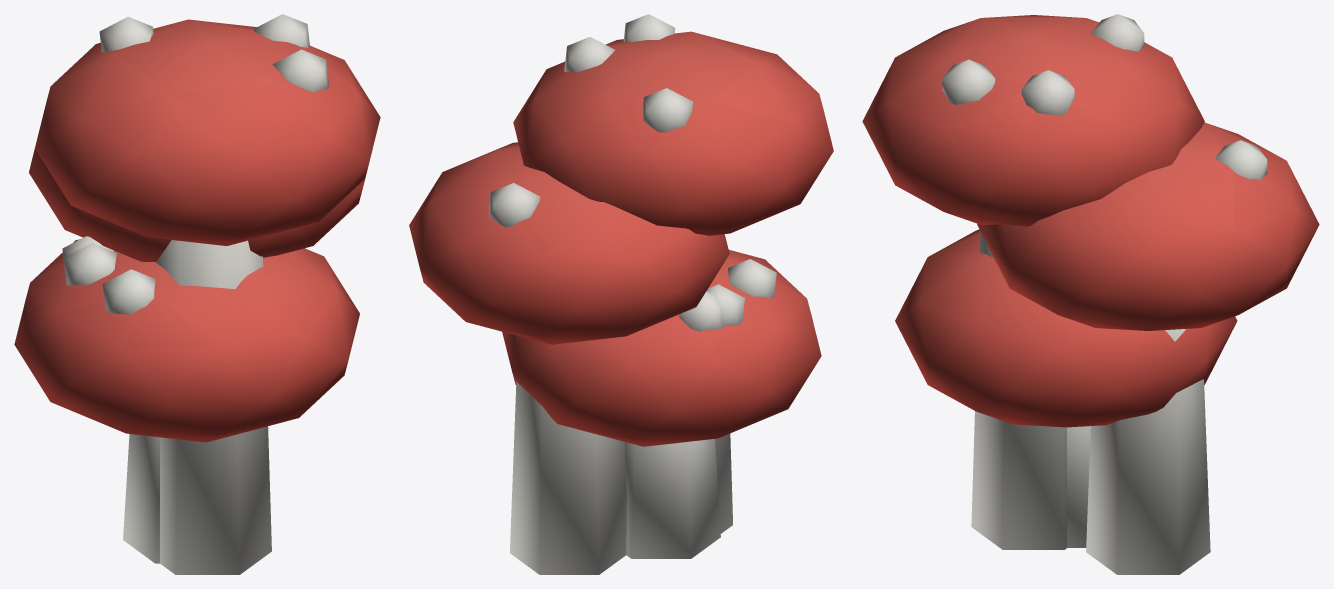
The model's file is mushrooms.glb.
3 views of the same model, side by side, from view 1: azimuth 30°, elevation 25°; view 2: azimuth 150°, elevation 25°; view 3: azimuth 270°, elevation 25° (orthographic). The views are drawn at different scales.
Parts seen in each view (by area): view 1: Mushroom; view 2: Mushroom; view 3: Mushroom.
Part boxes in pixels (left/top/right/bottom): Mushroom: left=14, top=14, right=380, bottom=574; Mushroom: left=409, top=14, right=833, bottom=574; Mushroom: left=862, top=14, right=1319, bottom=574.
Size of the model in its own units: 0.125 by 0.1758 by 0.1468.
